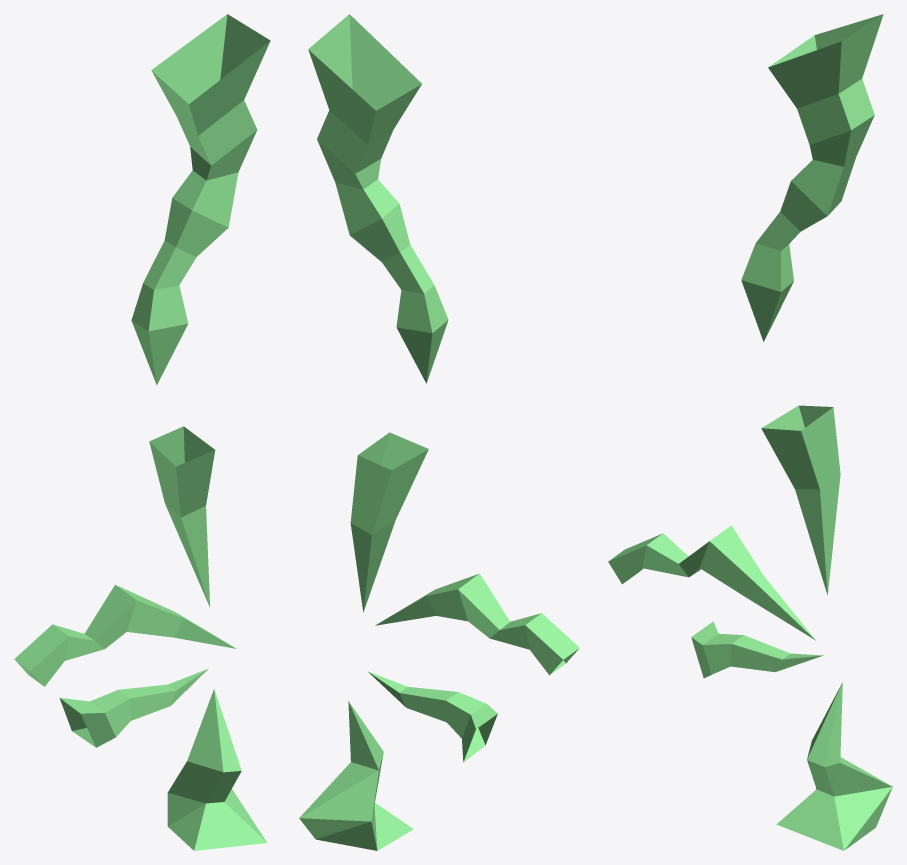
The model's file is stalagmites.FBX.
3 views of the same model, side by side, from view 1: azimuth 30°, elevation 25°; view 2: azimuth 150°, elevation 25°; view 3: azimuth 330°, elevation 25° (orthographic).
Visible parts, largest first — view 1: stalagmite_1, stalagmite_2, stalagmite_6, stalagmite_4, stalagmite_3, stalagmite_5; view 2: stalagmite_1, stalagmite_2, stalagmite_6, stalagmite_3, stalagmite_4, stalagmite_5; view 3: stalagmite_1, stalagmite_6, stalagmite_3, stalagmite_2, stalagmite_4, stalagmite_5.
Part boxes in pixels (<box>): stalagmite_1: <box>151,14,270,180</box>; stalagmite_2: <box>131,170,238,385</box>; stalagmite_6: <box>167,689,267,850</box>; stalagmite_4: <box>14,584,236,686</box>; stalagmite_3: <box>149,426,215,607</box>; stalagmite_5: <box>59,668,208,747</box>; stalagmite_1: <box>308,14,421,189</box>; stalagmite_2: <box>335,179,448,383</box>; stalagmite_6: <box>299,701,413,850</box>; stalagmite_3: <box>350,432,428,612</box>; stalagmite_4: <box>375,573,579,675</box>; stalagmite_5: <box>368,671,497,762</box>; stalagmite_1: <box>768,14,883,166</box>; stalagmite_6: <box>776,682,892,850</box>; stalagmite_3: <box>761,405,840,594</box>; stalagmite_2: <box>741,157,855,341</box>; stalagmite_4: <box>608,525,815,640</box>; stalagmite_5: <box>691,621,823,678</box>.
Size of the model in its own units: 643 by 2073 by 225.
